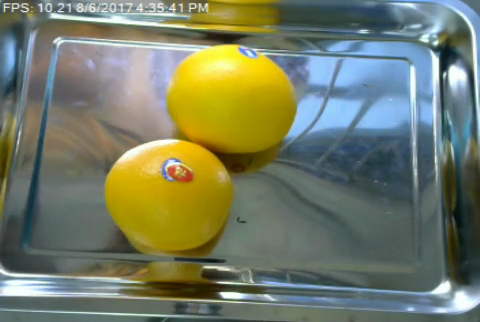Orange: (103, 138, 233, 253), (166, 44, 295, 153)
